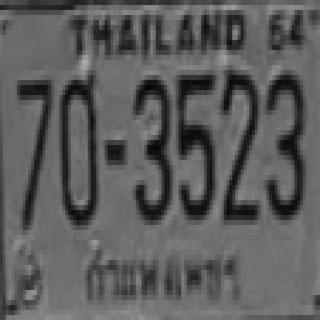N00: (57, 70, 96, 220)
N02: (221, 68, 258, 218)
N03: (263, 65, 303, 215), (133, 75, 170, 220)
N05: (176, 70, 212, 215)
N07: (14, 75, 51, 225)
P16: (79, 238, 244, 307)
